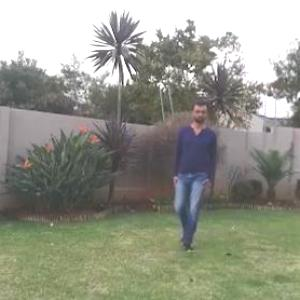follow: (170, 101, 212, 243)
